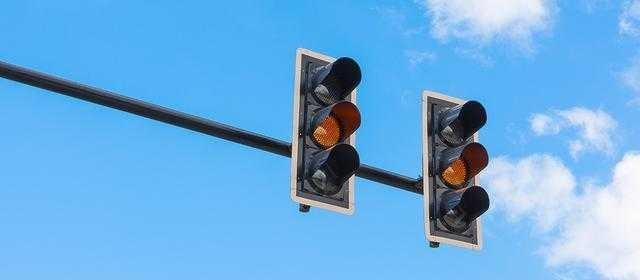yellow_light: (291, 47, 362, 216), (423, 91, 489, 251)
